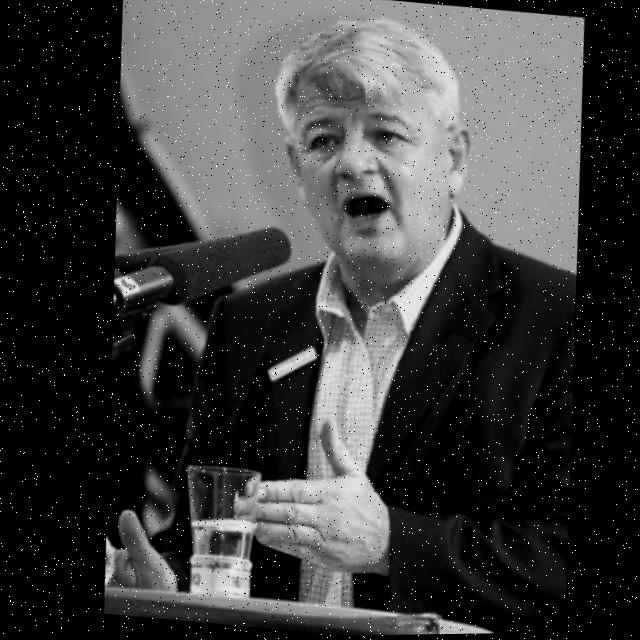face: (262, 0, 474, 297)
